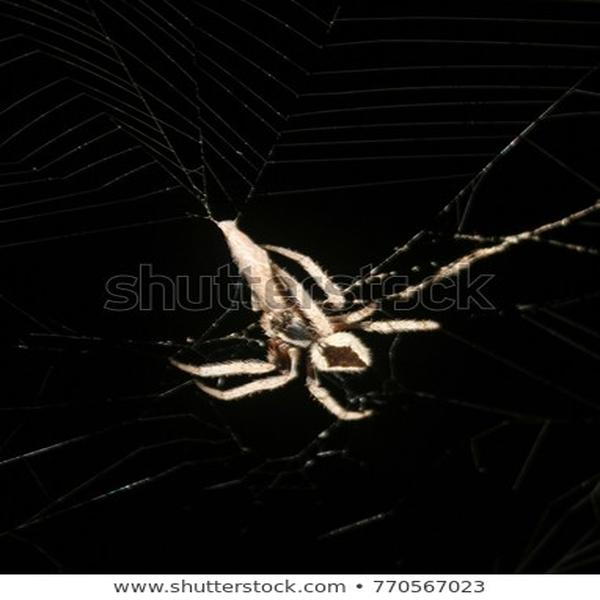Garden Orb Weaver Spider: (176, 235, 438, 426)
